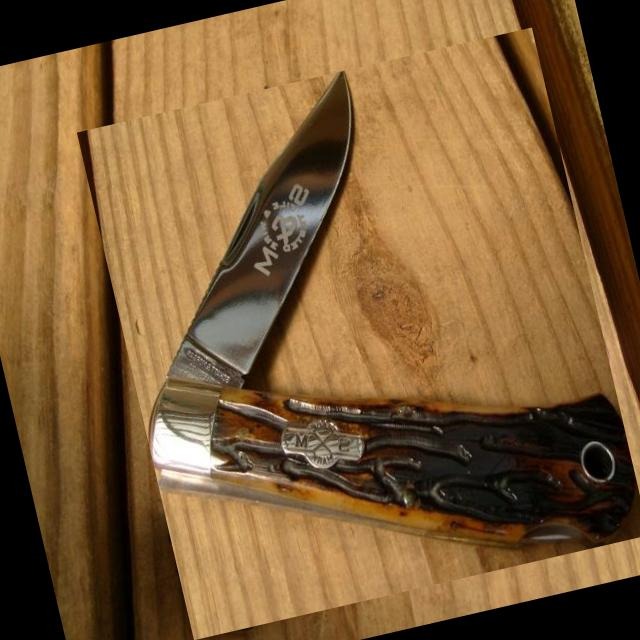Knife: (149, 72, 635, 547)
